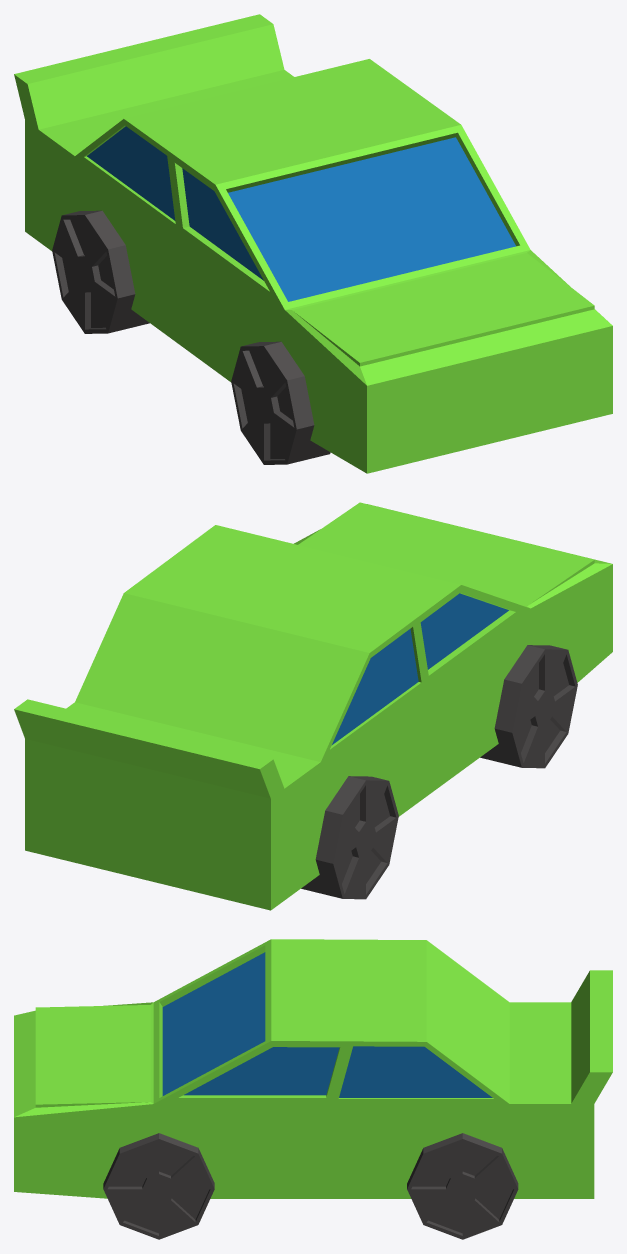
The model's file is greencar.fbx.
The picture shows the model from 3 angles, top to bottom: view 1: azimuth 30°, elevation 25°; view 2: azimuth 150°, elevation 25°; view 3: azimuth 270°, elevation 25°; orthographic projection. The views are drawn at different scales.
Visible parts, largest first — view 1: yesil; view 2: yesil; view 3: yesil.
Part boxes in pixels (box(x1,y1,x2,y2)): yesil: box(14, 14, 612, 473); yesil: box(14, 502, 612, 910); yesil: box(14, 939, 612, 1239).
Bounding box in the file's own units: 119 × 92.87 × 261.
Materials: 1 (1 with a texture image).
